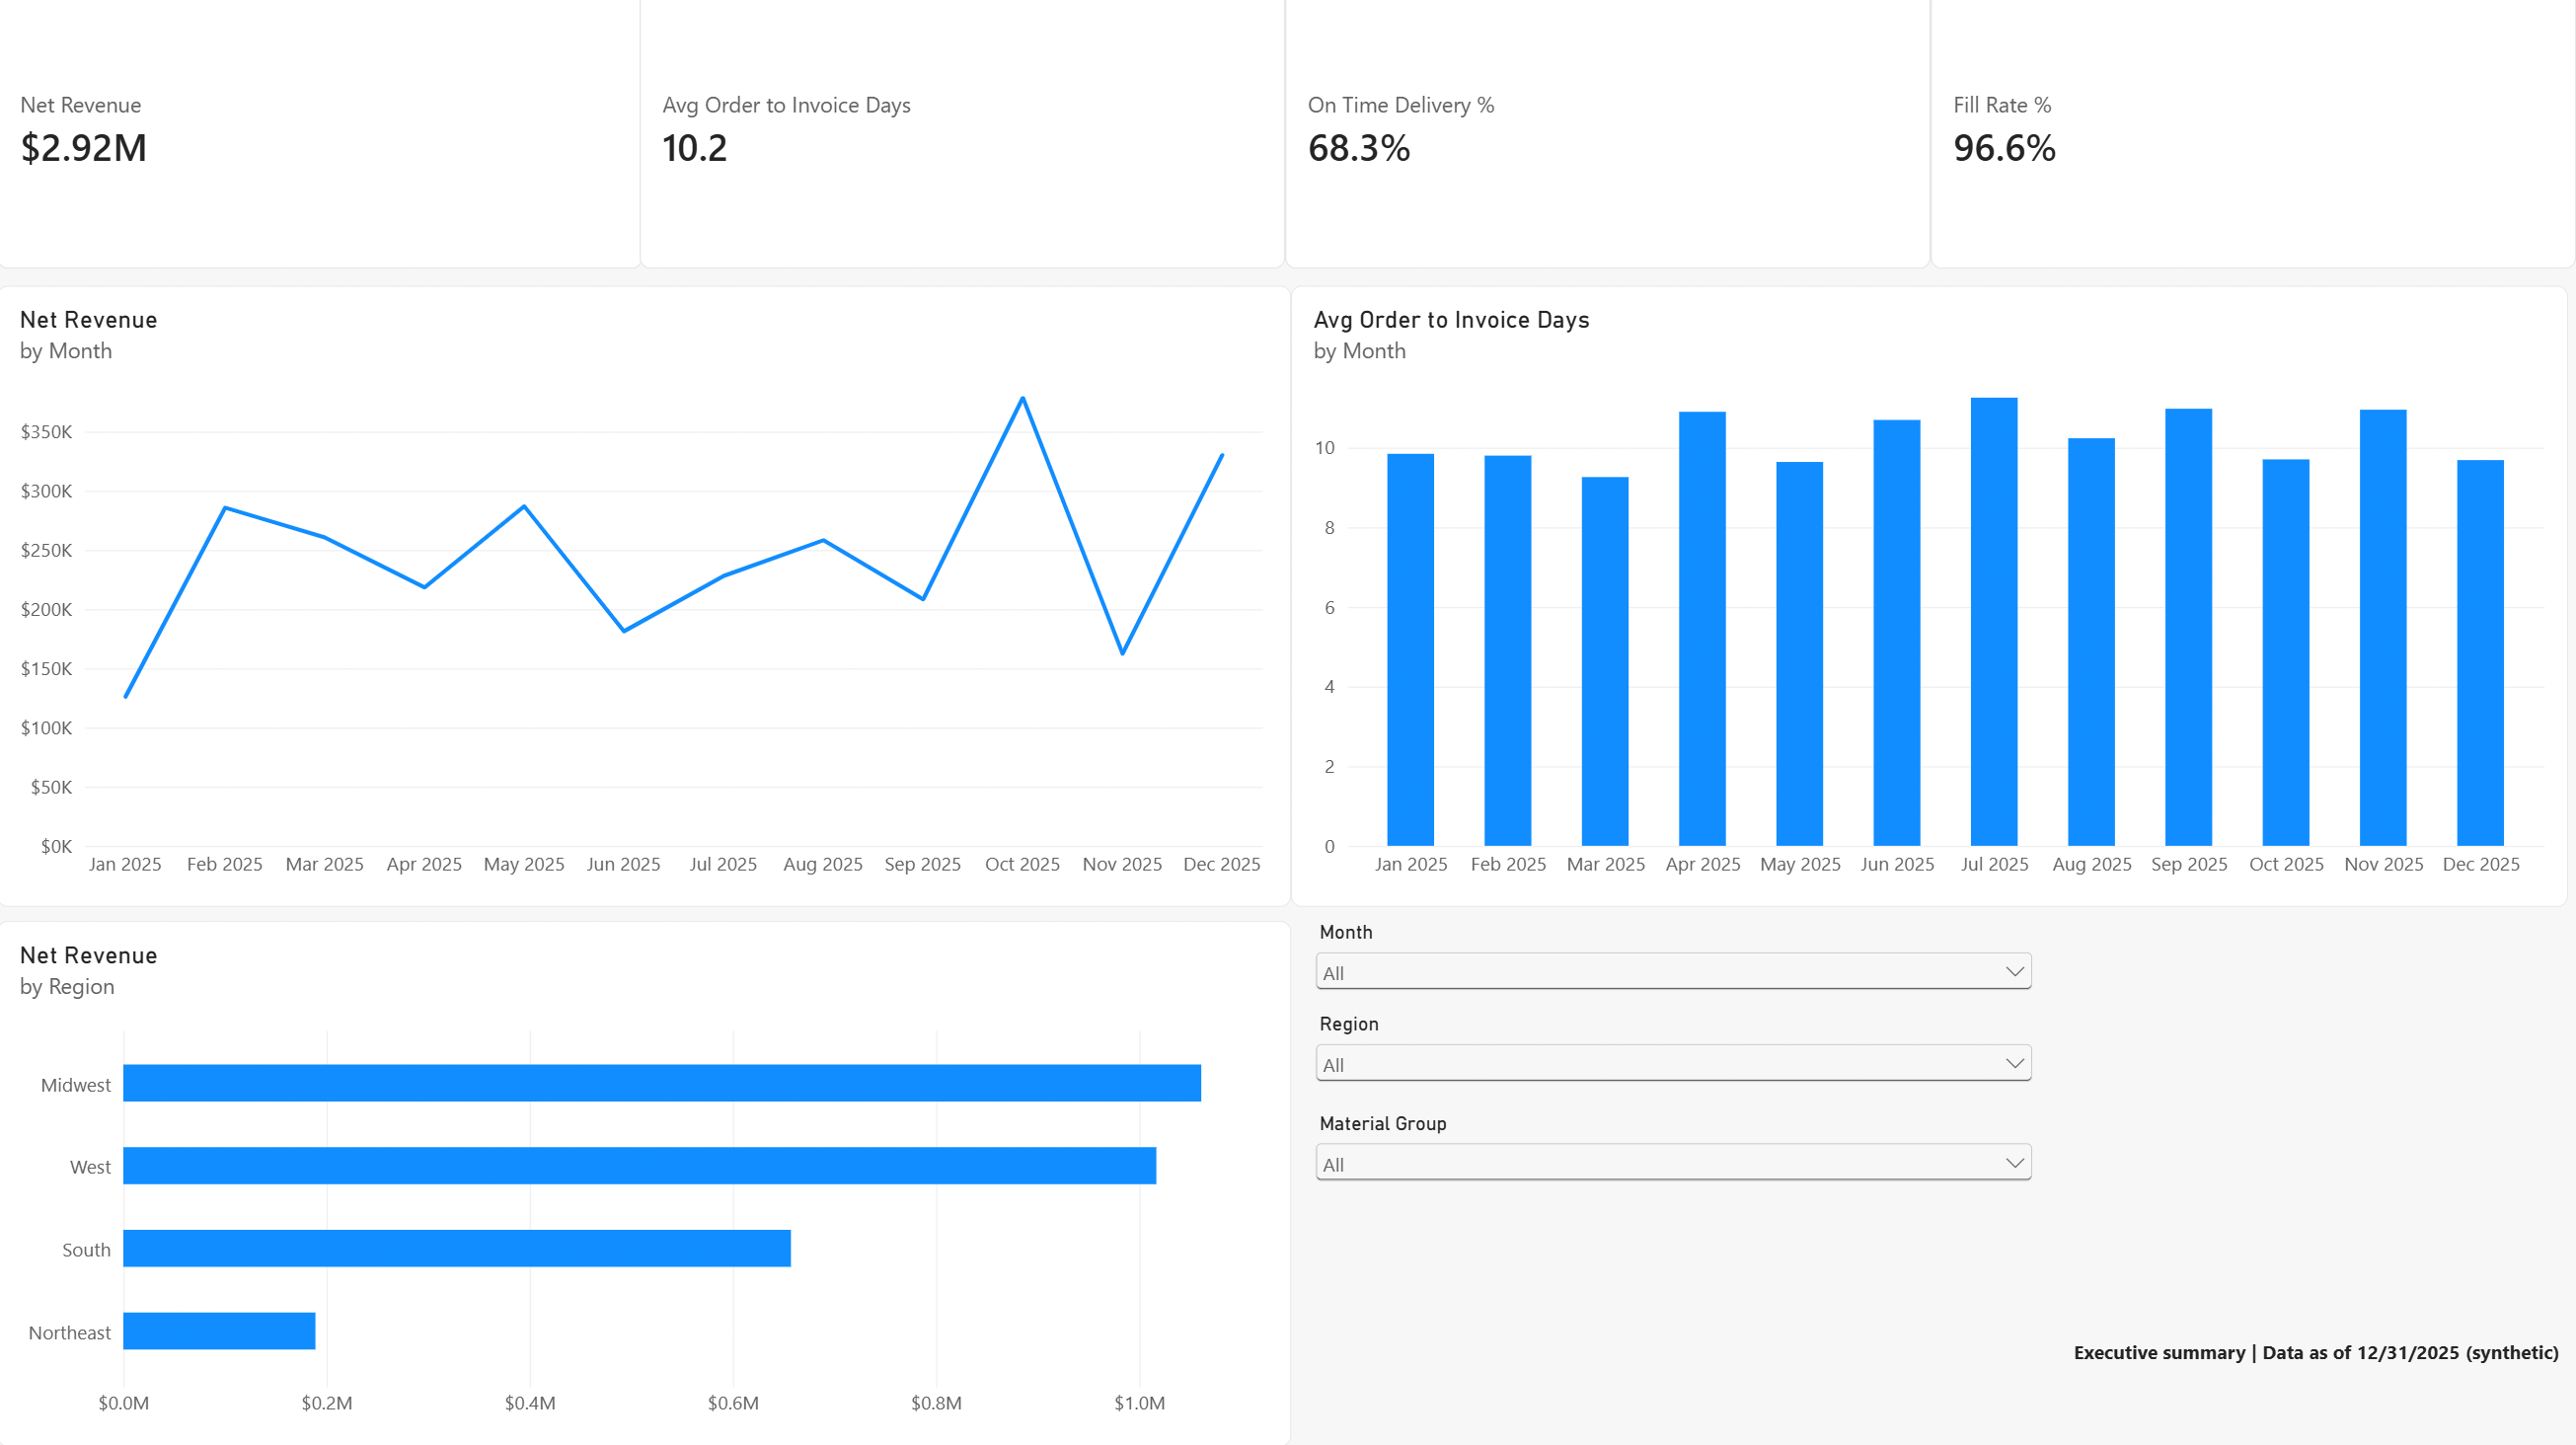

This screenshot's page, from the dashboard's own definition file:
{"tool":"powerbi","page":{"name":"Executive Summary","canvas":[1920,1080],"ordinal":0},"visuals":[{"type":"cardVisual","fields":{"Data":["_Measures.Net Revenue"]},"box":[0,0,479,206.2],"z":0},{"type":"cardVisual","fields":{"Data":["_Measures.Avg Order to Invoice Days"]},"box":[476.5,0,479,206.2],"z":1000},{"type":"cardVisual","fields":{"Data":["_Measures.On Time Delivery %"]},"box":[955.3,0,479,206.2],"z":2000},{"type":"cardVisual","fields":{"Data":["_Measures.Fill Rate %"]},"box":[1434.1,0,479,206.2],"z":3000},{"type":"lineChart","fields":{"Category":["DimDate.Month"],"Y":["_Measures.Net Revenue"]},"box":[0,218.5,959.8,460.8],"z":4000},{"type":"clusteredColumnChart","fields":{"Category":["DimDate.Month"],"Y":["_Measures.Avg Order to Invoice Days"]},"box":[959.8,218.5,947.4,460.8],"z":5000},{"type":"clusteredBarChart","fields":{"Category":["DimCustomer.REGION"],"Y":["_Measures.Net Revenue"]},"box":[0,690,960,390],"z":6000},{"type":"slicer","fields":{"Values":["DimDate.Month"]},"box":[973.3,689.4,541.9,86.7],"z":7000},{"type":"slicer","fields":{"Values":["DimCustomer.REGION"]},"box":[973.3,758.2,541.9,80],"z":8000},{"type":"slicer","fields":{"Values":["DimMaterial.MATERIAL_GROUP"]},"box":[973.3,831.4,541.9,108.1],"z":9000},{"type":"textbox","box":[1456.2,991.7,450.3,64.8],"z":9001}]}

Visuals, with their boxes in screenshot pixels (x1, y1, x2, y2), scaled from the page's 1920x1080 canvas onto the 2576x1445 screenshot:
cardVisual - _Measures.Net Revenue: 0,0,643,276
cardVisual - _Measures.Avg Order to Invoice Days: 640,0,1282,276
cardVisual - _Measures.On Time Delivery %: 1282,0,1925,276
cardVisual - _Measures.Fill Rate %: 1924,0,2567,276
lineChart - DimDate.Month x _Measures.Net Revenue: 0,292,1288,909
clusteredColumnChart - DimDate.Month x _Measures.Avg Order to Invoice Days: 1288,292,2559,909
clusteredBarChart - DimCustomer.REGION x _Measures.Net Revenue: 0,923,1288,1444
slicer - DimDate.Month: 1306,923,2033,1038
slicer - DimCustomer.REGION: 1306,1015,2033,1121
slicer - DimMaterial.MATERIAL_GROUP: 1306,1112,2033,1257
textbox: 1954,1327,2558,1413
